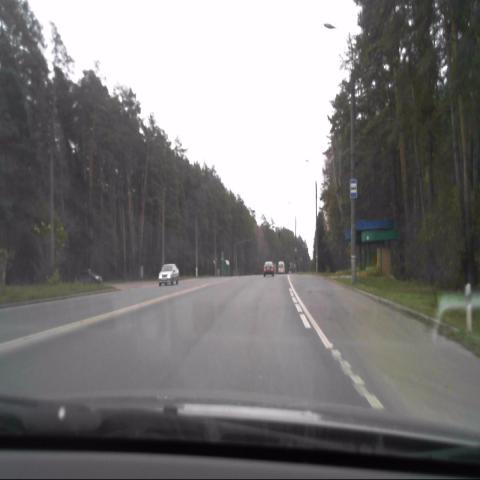5_16: (349, 178, 358, 200)
